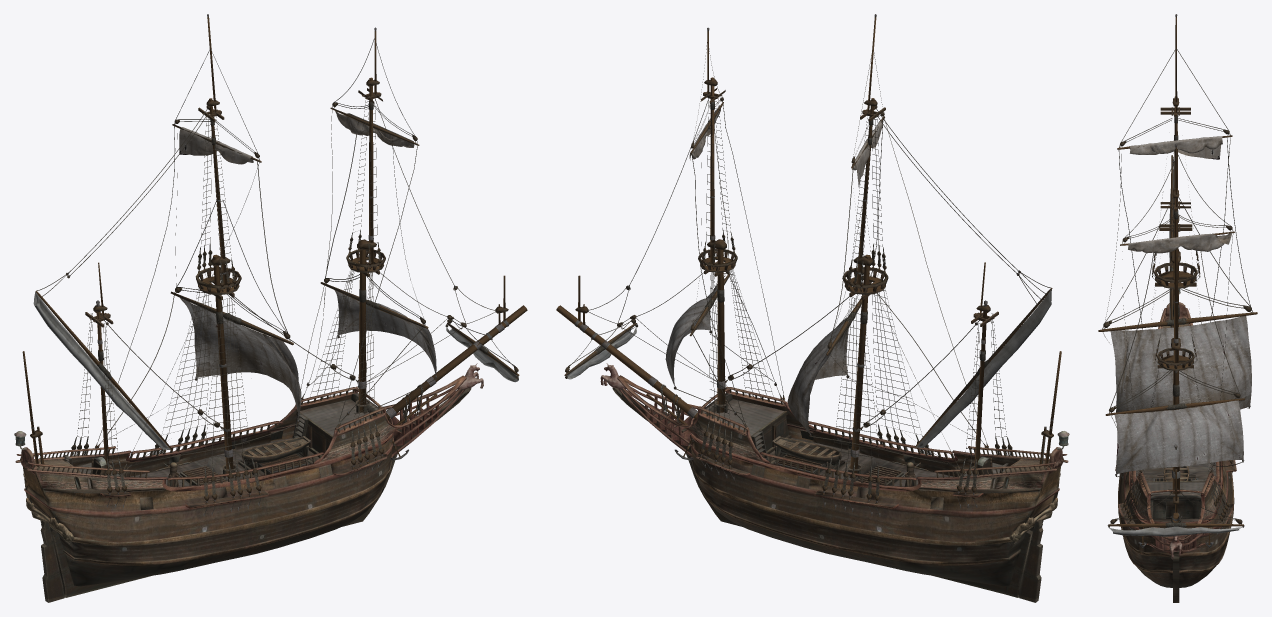
The model's file is ship.glb.
3 views of the same model, side by side, from view 1: azimuth 30°, elevation 25°; view 2: azimuth 150°, elevation 25°; view 3: azimuth 270°, elevation 25° (orthographic). The views are drawn at different scales.
Parts seen in each view (by area): view 1: dutch_ship_medium_hull, dutch_ship_medium_rigging, dutch_ship_medium_sails; view 2: dutch_ship_medium_hull, dutch_ship_medium_rigging, dutch_ship_medium_sails; view 3: dutch_ship_medium_sails, dutch_ship_medium_rigging, dutch_ship_medium_hull.
Boxes of the visible parts, box(x1,y1,x2,y2) form: dutch_ship_medium_hull: box(14, 363, 483, 602); dutch_ship_medium_rigging: box(22, 14, 527, 516); dutch_ship_medium_sails: box(179, 111, 436, 419); dutch_ship_medium_hull: box(600, 363, 1069, 602); dutch_ship_medium_rigging: box(556, 14, 1061, 516); dutch_ship_medium_sails: box(665, 105, 882, 433); dutch_ship_medium_sails: box(1110, 136, 1251, 474); dutch_ship_medium_rigging: box(1098, 14, 1257, 547); dutch_ship_medium_hull: box(1115, 288, 1236, 602).
Bounding box in the file's own units: 24.07 × 24.66 × 6.81.
Materials: 3 (3 with a texture image).
